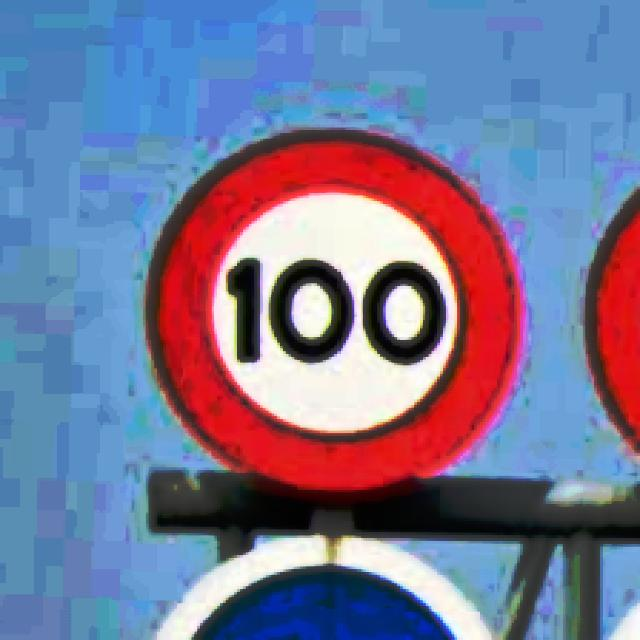max100: (143, 126, 524, 492)
